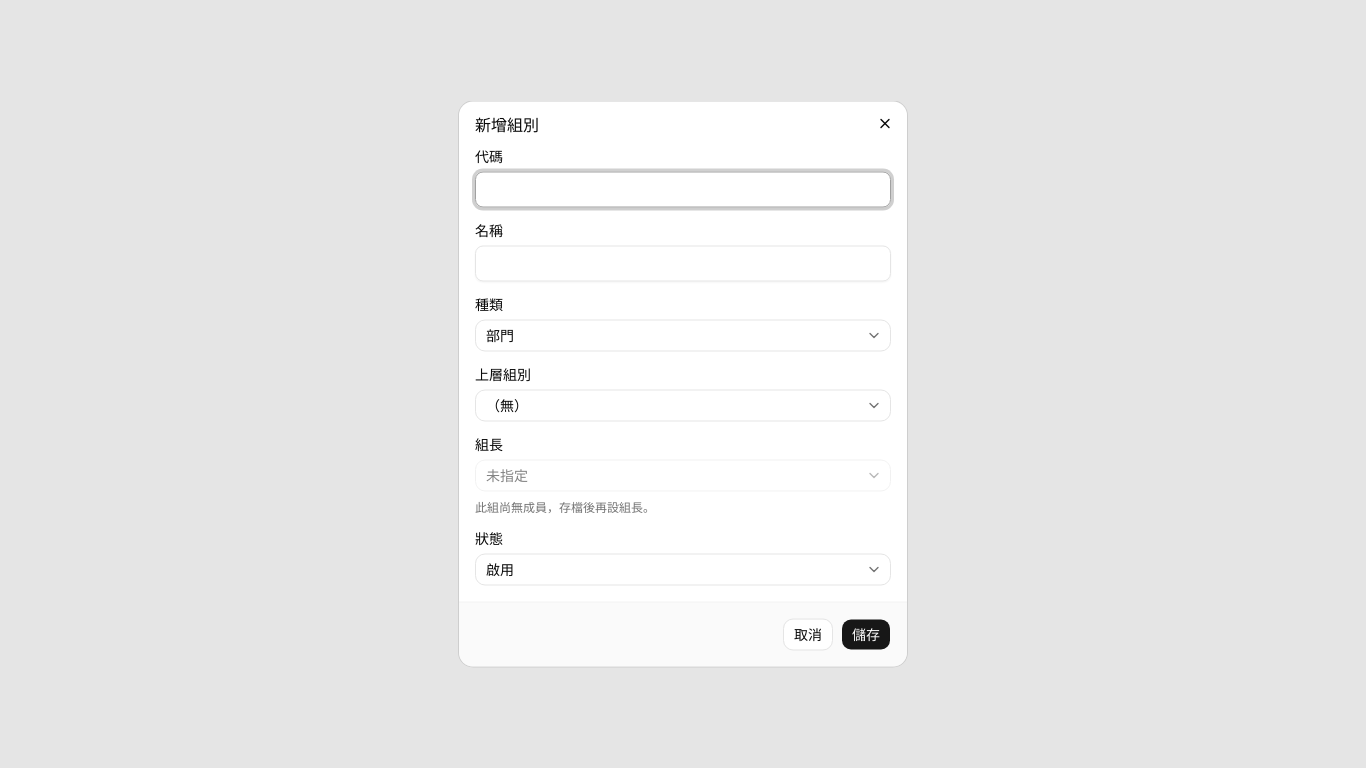
Test case: GroupForm 組別表單 › 代碼與名稱留空儲存時顯示「請填寫代碼與名稱」
Expected: the dialog is shown, [459, 102, 907, 666]
Click the button "儲存": [866, 634] box [841, 618, 891, 650]
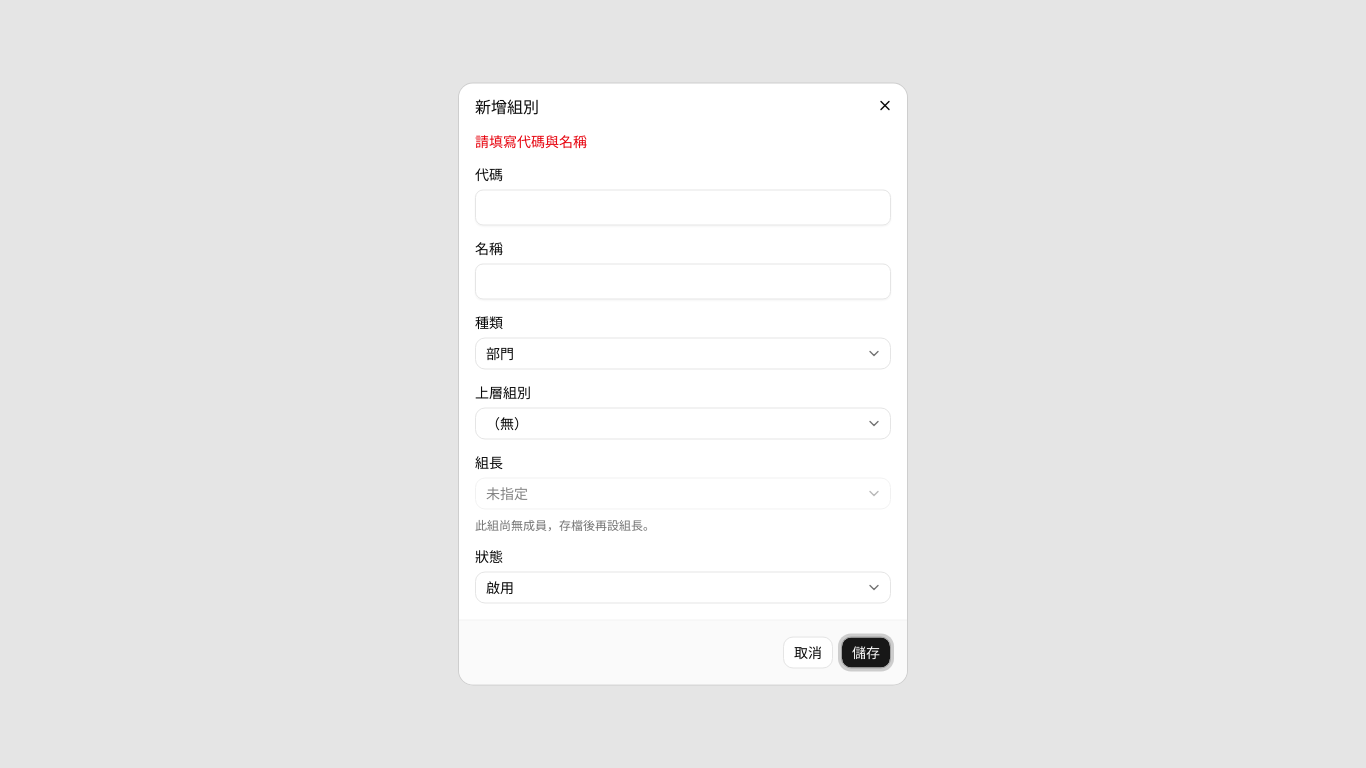
Now the text "請填寫代碼與名稱" is shown, box [475, 134, 587, 150]
